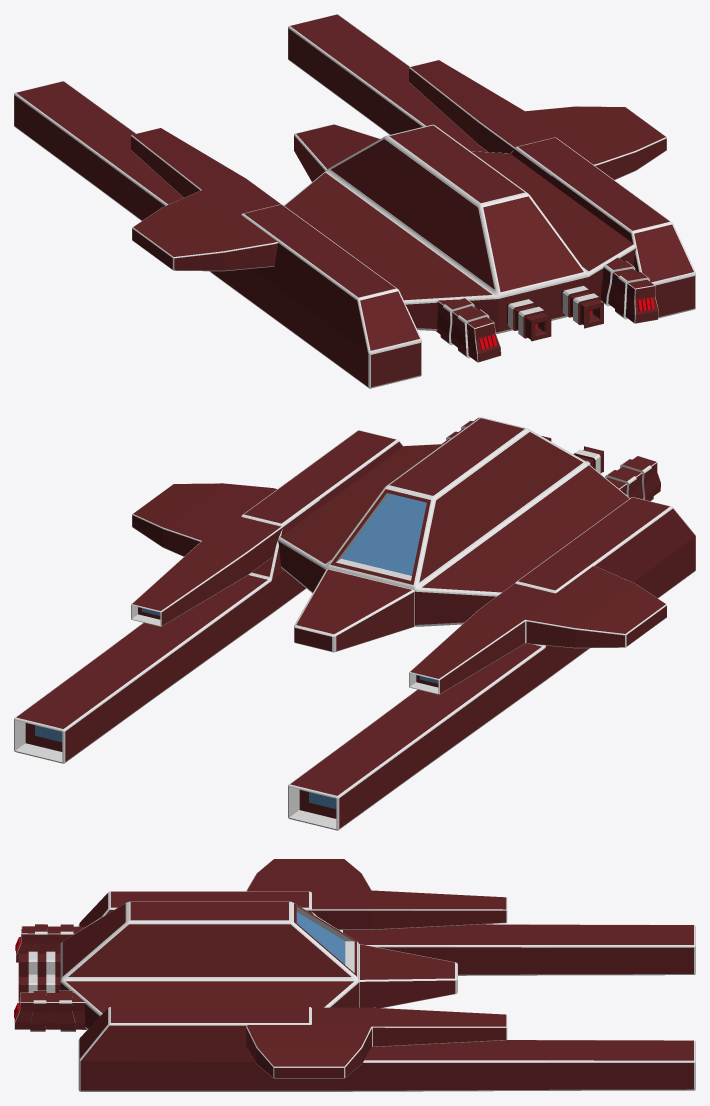
File: Spaceship_10_Merged.fbx
3 views of the same model, one above another, from view 1: azimuth 30°, elevation 25°; view 2: azimuth 150°, elevation 25°; view 3: azimuth 270°, elevation 25° (orthographic). The views are drawn at different scales.
Visible parts, largest first — view 1: Spaceship_10_Merged; view 2: Spaceship_10_Merged; view 3: Spaceship_10_Merged.
Part boxes in pixels (bbox=[...]): Spaceship_10_Merged: bbox=[14, 14, 695, 388]; Spaceship_10_Merged: bbox=[14, 417, 695, 830]; Spaceship_10_Merged: bbox=[14, 859, 695, 1091].
Size of the model in its own units: 570 by 143 by 789.
